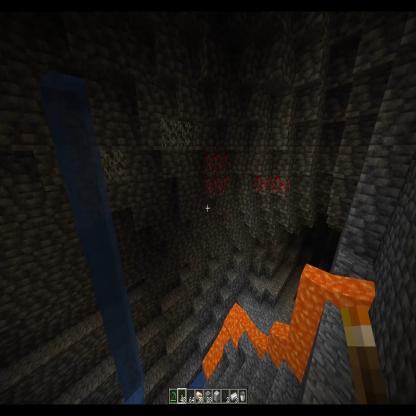redstone ore: (202, 152, 219, 177), (271, 177, 291, 197), (253, 174, 271, 195), (204, 176, 219, 200), (219, 152, 230, 177), (218, 176, 230, 196)
